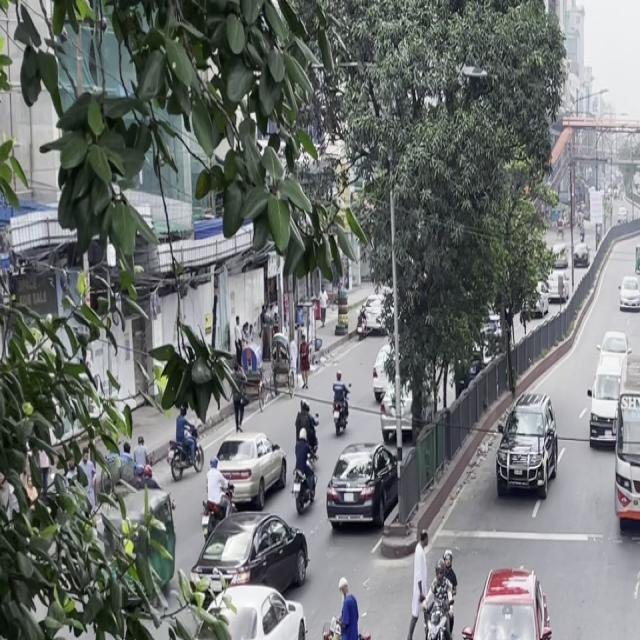bicycle: (308, 582, 394, 640)
bus: (610, 355, 640, 533)
car: (454, 552, 563, 640), (491, 392, 564, 516), (323, 438, 397, 538), (208, 426, 288, 515), (585, 360, 625, 454), (617, 272, 640, 319)
motorbike: (419, 537, 461, 640)
